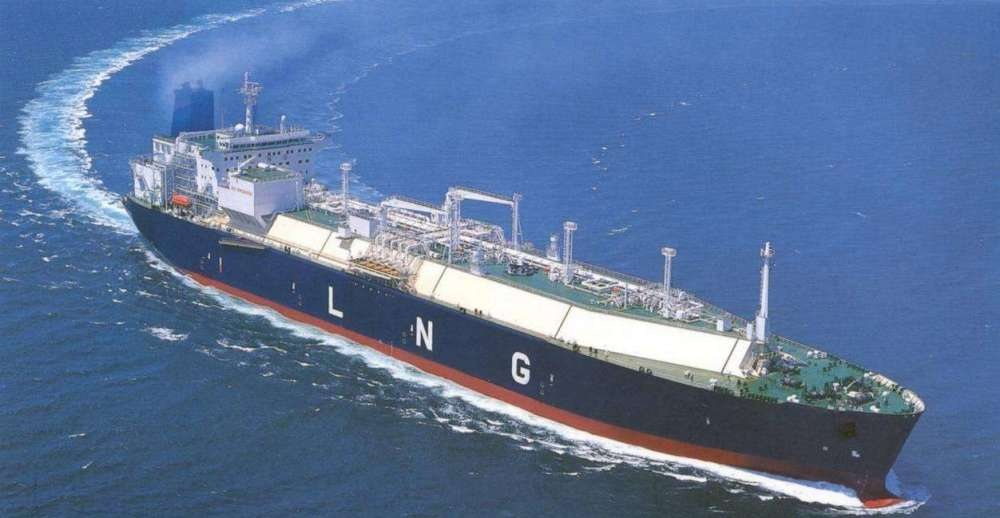Cargoship: (115, 81, 924, 515)
